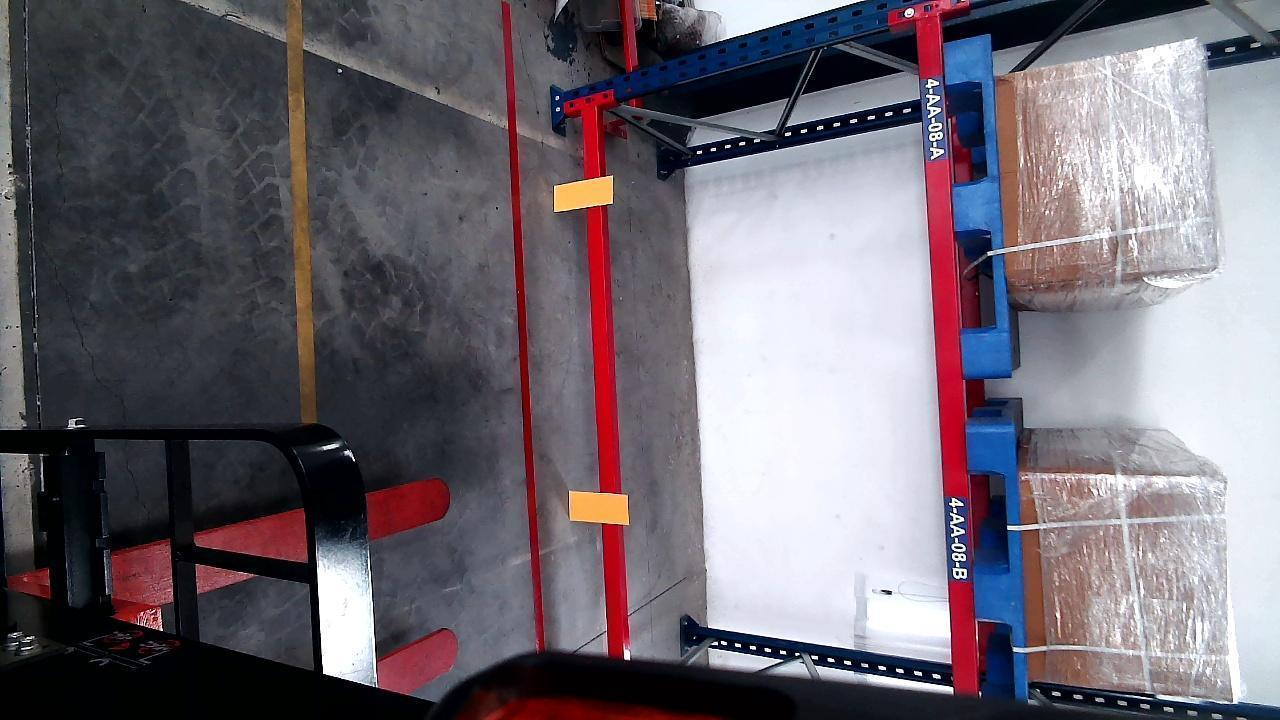red_line: (499, 2, 548, 652)
yellow_line: (288, 0, 318, 423)
